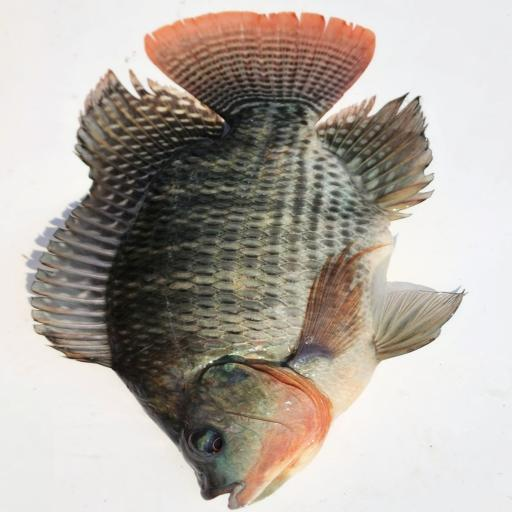Tilapia: (31, 11, 465, 510)
